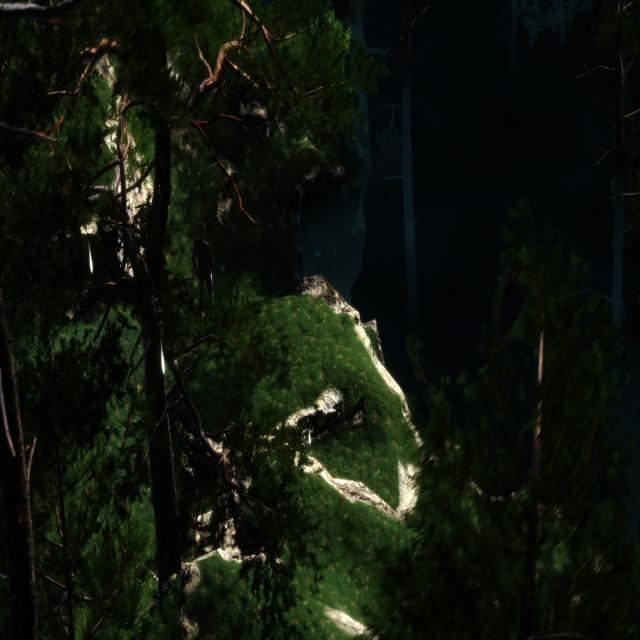Human: (190, 218, 220, 331)
